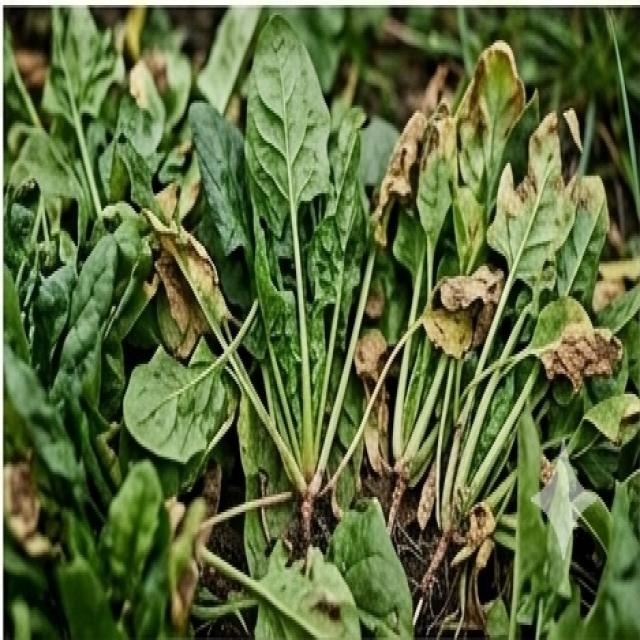rotten spinach: (359, 20, 640, 479), (112, 152, 357, 500)
